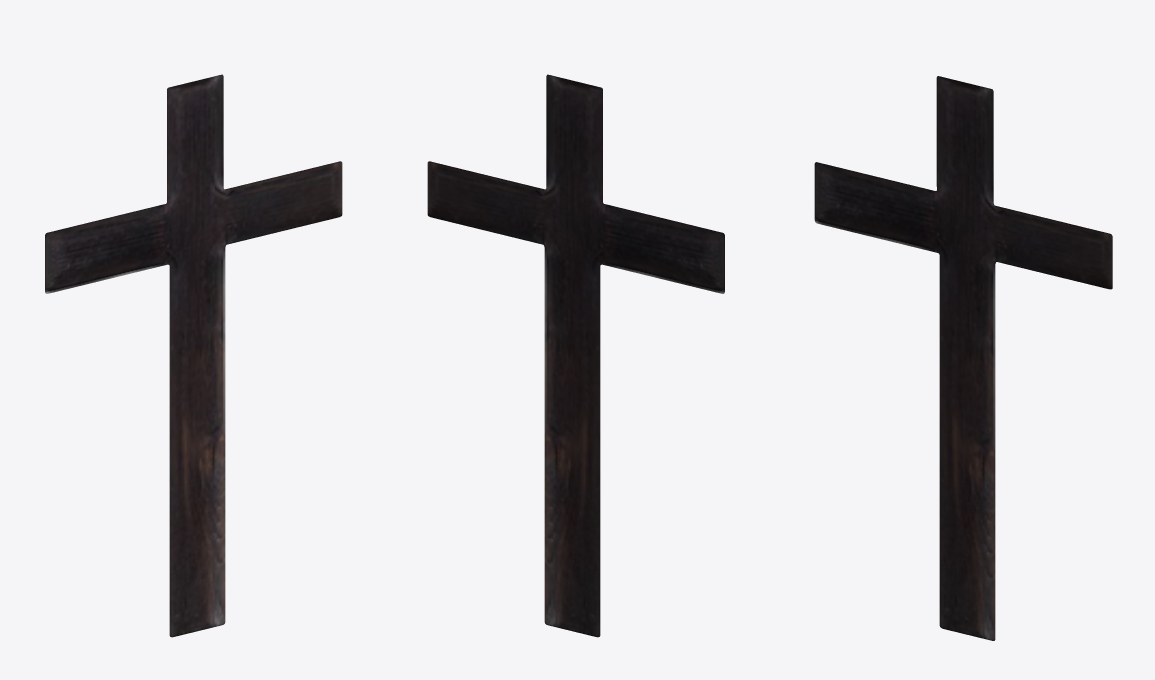
File: wall_cross_3.fbx
3 views of the same model, side by side, from view 1: azimuth 30°, elevation 25°; view 2: azimuth 150°, elevation 25°; view 3: azimuth 330°, elevation 25° (orthographic).
Visible parts, largest first — view 1: wall_cross_03; view 2: wall_cross_03; view 3: wall_cross_03.
Boxes of the visible parts, bbox=[...] form: wall_cross_03: bbox=[45, 74, 342, 637]; wall_cross_03: bbox=[427, 74, 724, 637]; wall_cross_03: bbox=[814, 76, 1112, 640].
Bounding box in the file's own units: 26.58 × 42.02 × 2.34e-05.
